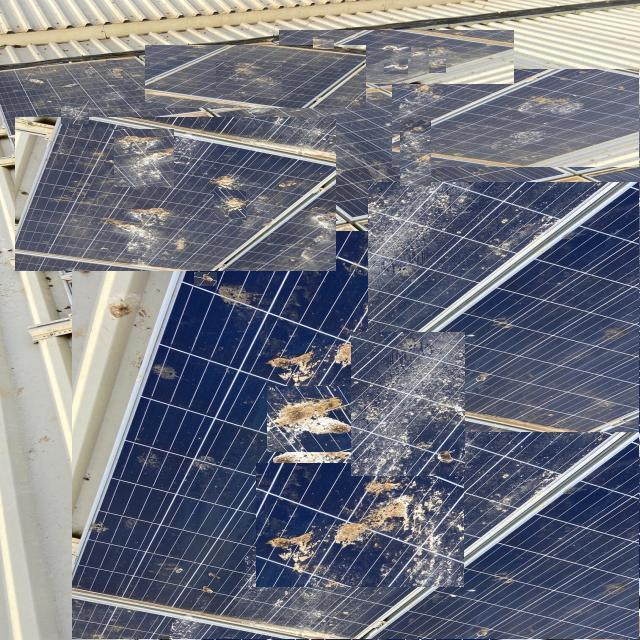Bird-drop: (257, 463, 465, 587), (351, 332, 465, 476), (267, 386, 357, 452), (305, 246, 367, 334), (273, 389, 345, 444), (114, 129, 174, 187), (240, 269, 290, 328), (298, 119, 346, 171), (217, 62, 283, 95), (400, 120, 431, 186), (515, 119, 585, 143), (493, 83, 543, 107), (214, 190, 246, 220), (133, 400, 165, 422), (61, 99, 89, 124), (384, 59, 408, 74), (26, 73, 47, 89), (194, 272, 217, 286), (106, 60, 123, 78), (411, 46, 429, 63), (198, 270, 218, 285), (196, 400, 215, 415), (313, 36, 334, 49), (429, 57, 446, 73), (224, 62, 234, 67)
Dusty: (73, 231, 640, 639), (369, 183, 639, 432), (15, 117, 336, 271), (220, 90, 567, 215), (393, 69, 639, 167), (0, 58, 196, 134), (145, 45, 366, 108), (280, 31, 514, 84)
